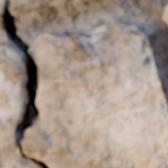brick: (164, 8, 167, 22)
broken_brick: (24, 21, 167, 167), (0, 42, 30, 167), (11, 0, 94, 16), (0, 0, 6, 17)
crack: (0, 0, 50, 167)
